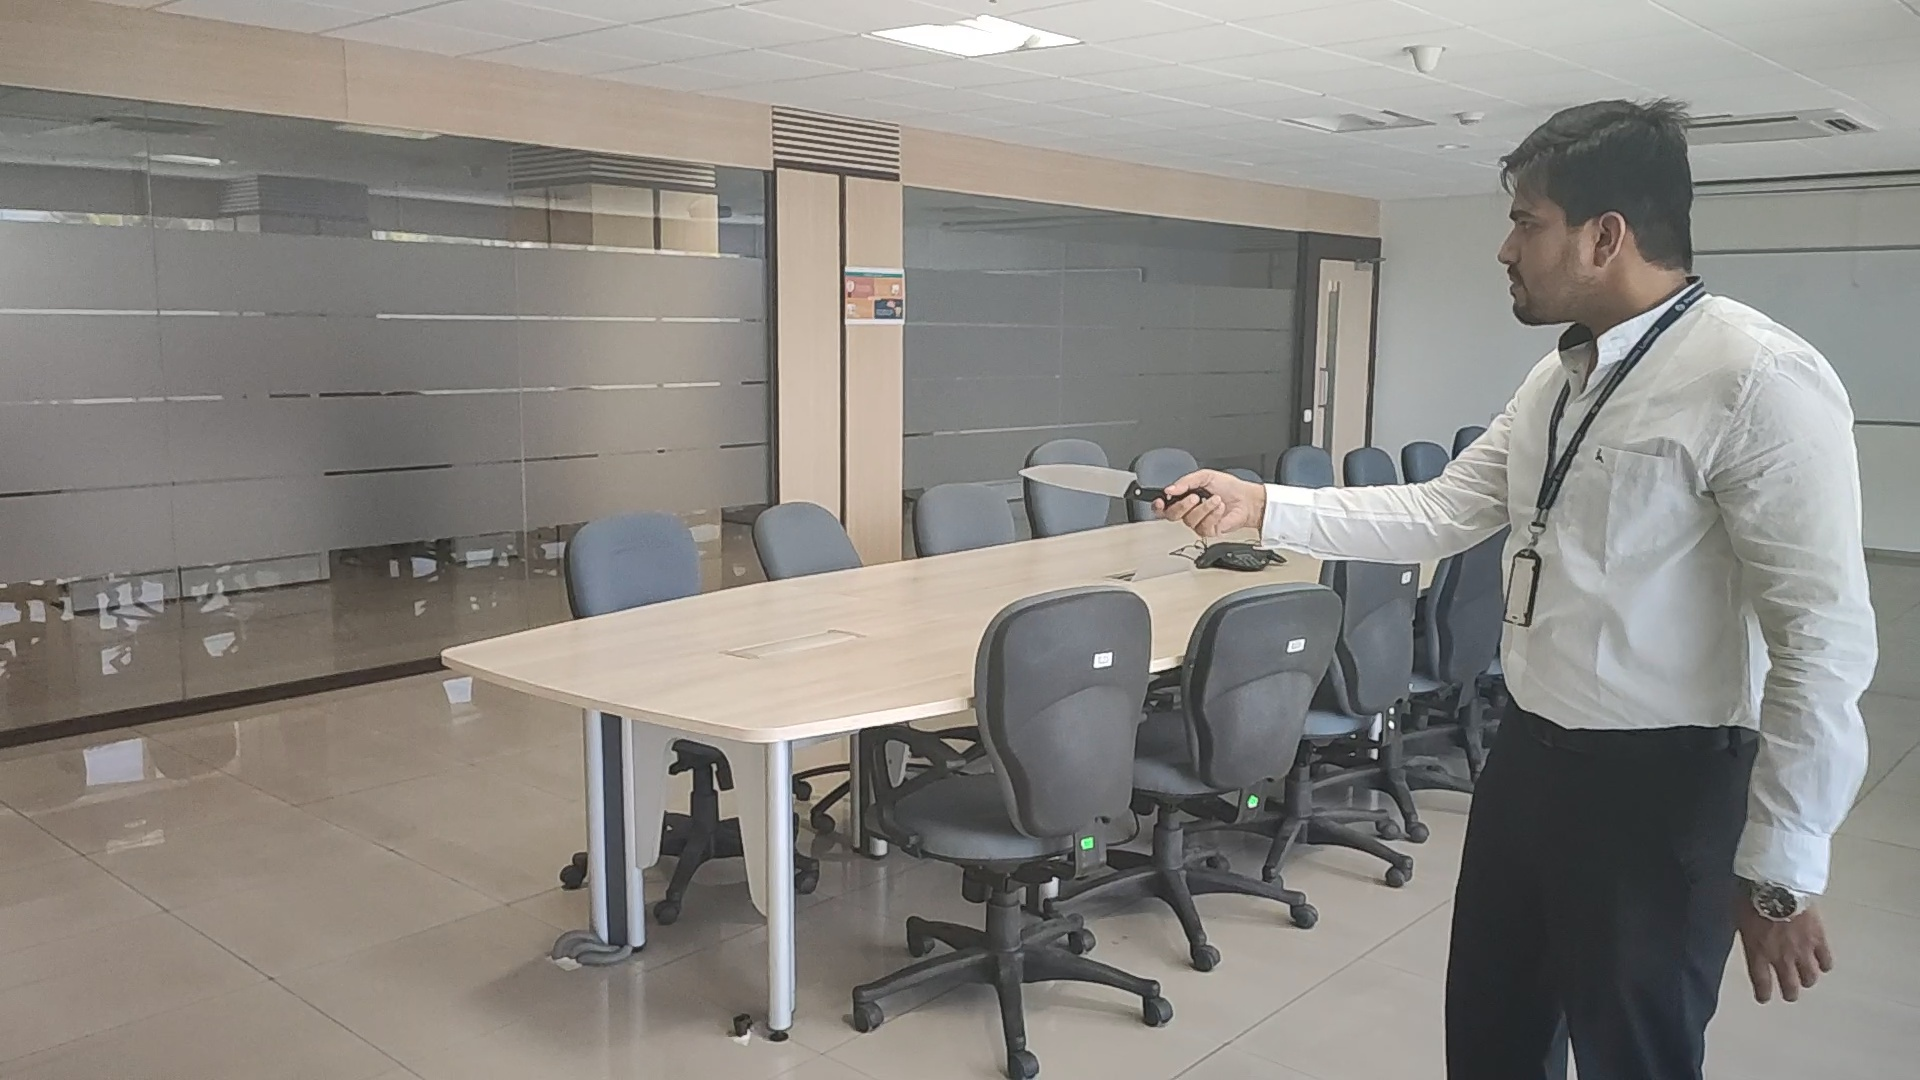knife: (1015, 462, 1167, 506)
